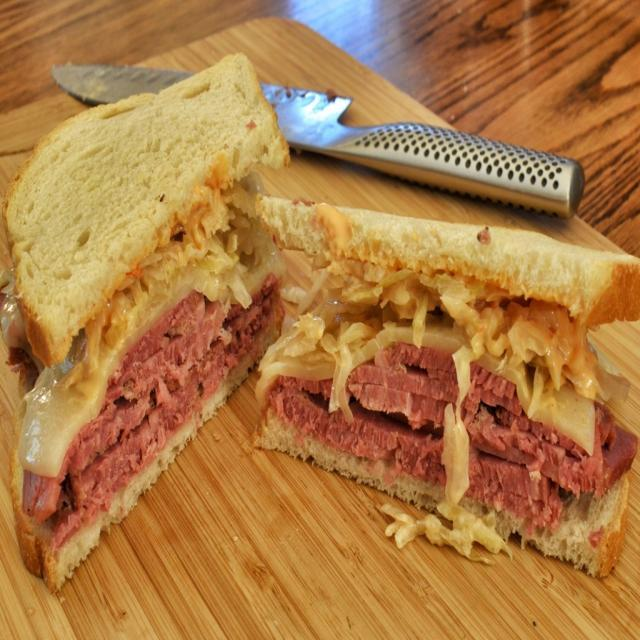Sandwich: (0, 46, 294, 594), (255, 187, 640, 563)
